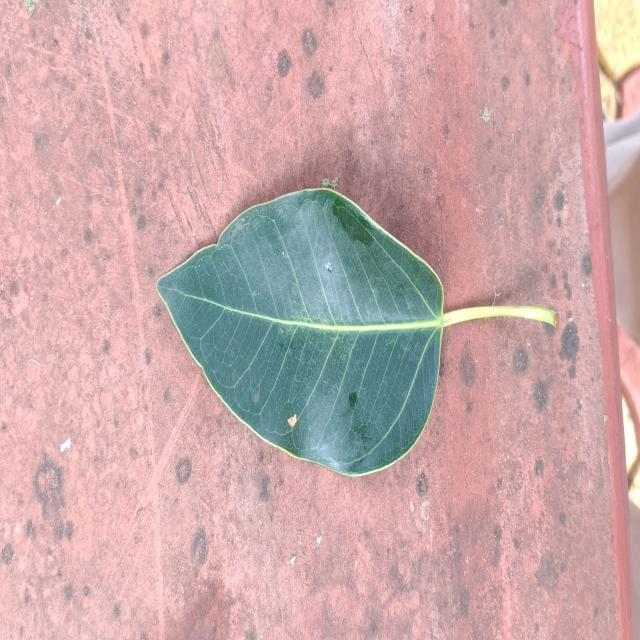camphor: (156, 189, 446, 476)
